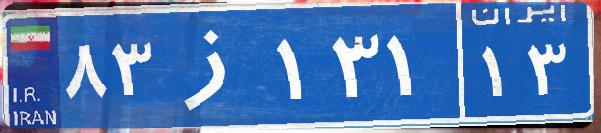1: (385, 28, 445, 110), (273, 28, 330, 110), (475, 38, 525, 113)
3: (330, 28, 385, 110), (110, 28, 158, 105), (525, 38, 570, 115)
8: (57, 26, 110, 107)
ز: (158, 15, 273, 115)
